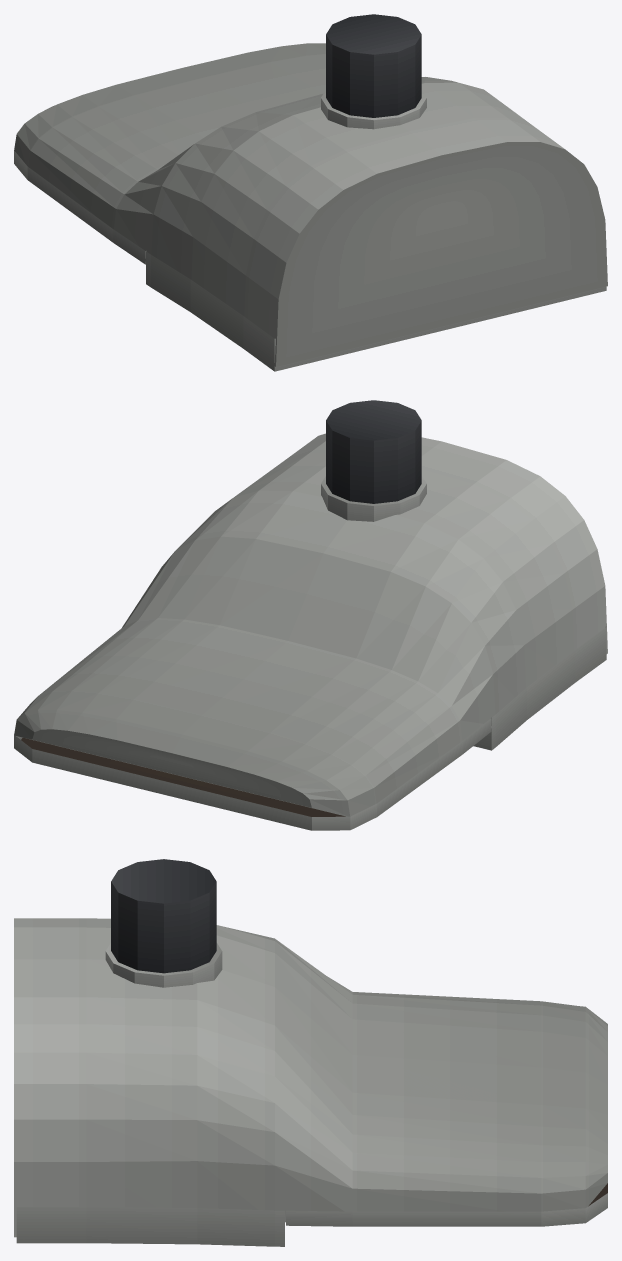
File: streetlight_ltecdtd.obj
3 renders of one model, top to bottom at view 1: azimuth 30°, elevation 25°; view 2: azimuth 150°, elevation 25°; view 3: azimuth 270°, elevation 25°, orthographic. The views are drawn at different scales.
Parts seen in each view (by area): view 1: fixture; view 2: fixture; view 3: fixture.
Boxes of the visible parts, <box> form: fixture: <box>14,14,607,371</box>; fixture: <box>14,400,607,830</box>; fixture: <box>14,859,607,1246</box>.
Size of the model in its own units: 0.5 by 0.3438 by 0.6687.
